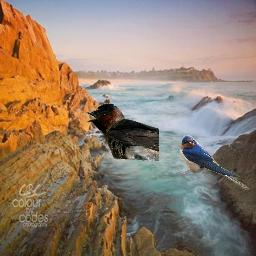Swallow: (85, 103, 159, 161), (179, 135, 249, 190)
